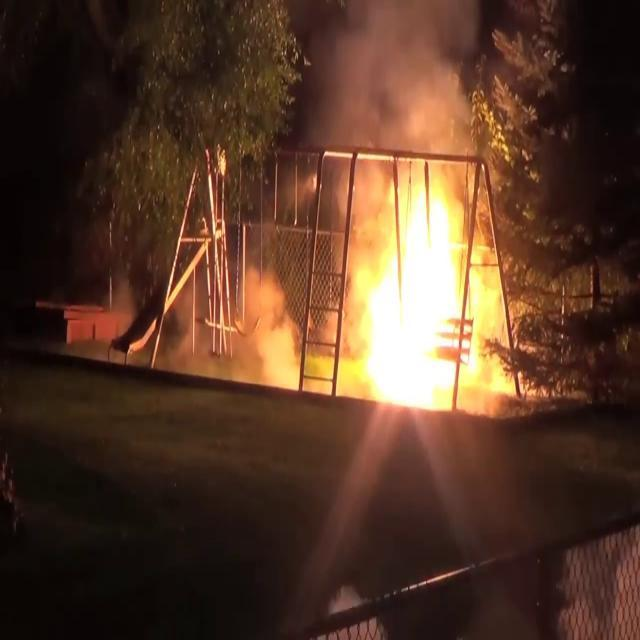Fire: (349, 152, 496, 412)
Smoke: (294, 1, 478, 153), (225, 252, 298, 386)
